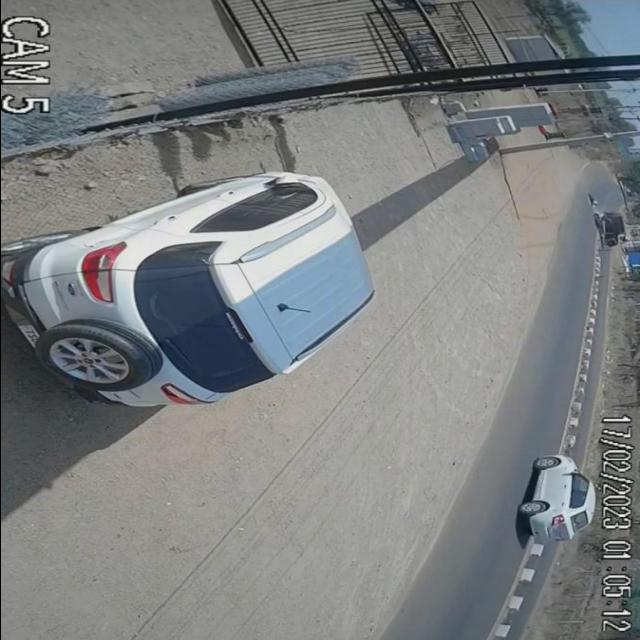accident: (581, 196, 631, 252)
